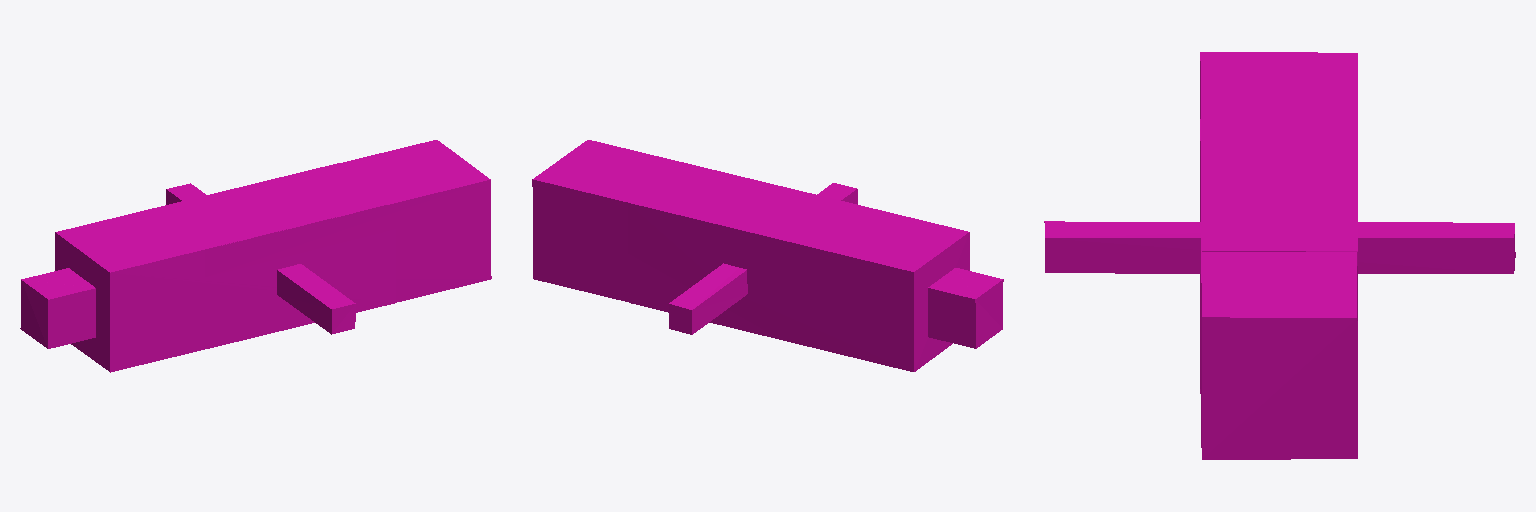
The robot description file, URDF, robot "procedural_obj_0003":
<?xml version="0.0" ?>
<!-- based on data/cube.urdf -->
<robot name="procedural_obj_0003">
  <link name="procedural_obj_0003">
    <contact>
      <lateral_friction value="1.0"/>
      <rolling_friction value="0.0"/>
      <contact_cfm value="0.0"/>
      <contact_erp value="1.0"/>
    </contact>
    <inertial>
      <origin rpy="0 0 0" xyz="0 0 0"/>
       <mass value="1.0"/>
       <inertia ixx="1" ixy="0" ixz="0" iyy="1" iyz="0" izz="1"/>
    </inertial>
    <visual>
      <origin rpy="0 0 0" xyz="0 0 0"/>
      <geometry>
	<mesh filename="0003.obj" scale="1 1 1"/>
      </geometry>
       <material name="random_colour">
        <color rgba="0.876 0.104 0.711 1"/>
      </material>
    </visual>
    <collision>
      <origin rpy="0 0 0" xyz="0 0 0"/>
      <geometry>
	<mesh filename="0003.vhacd.obj" scale="1 1 1"/>
      </geometry>
    </collision>
  </link>
</robot>

--- What the picture shows (computed from the rendered views, not written in the file) ---
3 views of the same robot in one strip: view 1: azimuth 30°, elevation 25°; view 2: azimuth 150°, elevation 25°; view 3: azimuth 270°, elevation 25° (orthographic).
Robot: procedural_obj_0003 — 1 links, 0 joints (none); root link procedural_obj_0003; default pose: all joints at 0.
Links seen in each view (by area): view 1: procedural_obj_0003; view 2: procedural_obj_0003; view 3: procedural_obj_0003.
Link boxes in pixels (x1=…): procedural_obj_0003: x1=20, y1=140, x2=491, y2=372; procedural_obj_0003: x1=532, y1=140, x2=1003, y2=371; procedural_obj_0003: x1=1044, y1=52, x2=1515, y2=459.
Bounding box of the posed robot: 0.1353 × 0.0902 × 0.0302 m (x, y, z).
Meshes: 1 distinct files referenced, 1 mesh visuals loaded (1 OBJ).